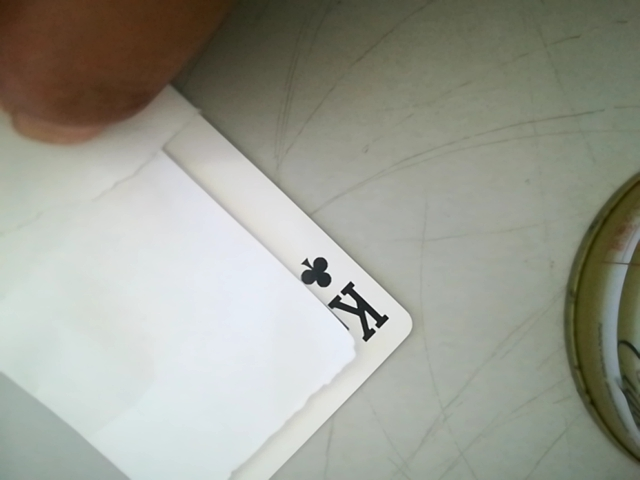mh k: (289, 250, 395, 352)
